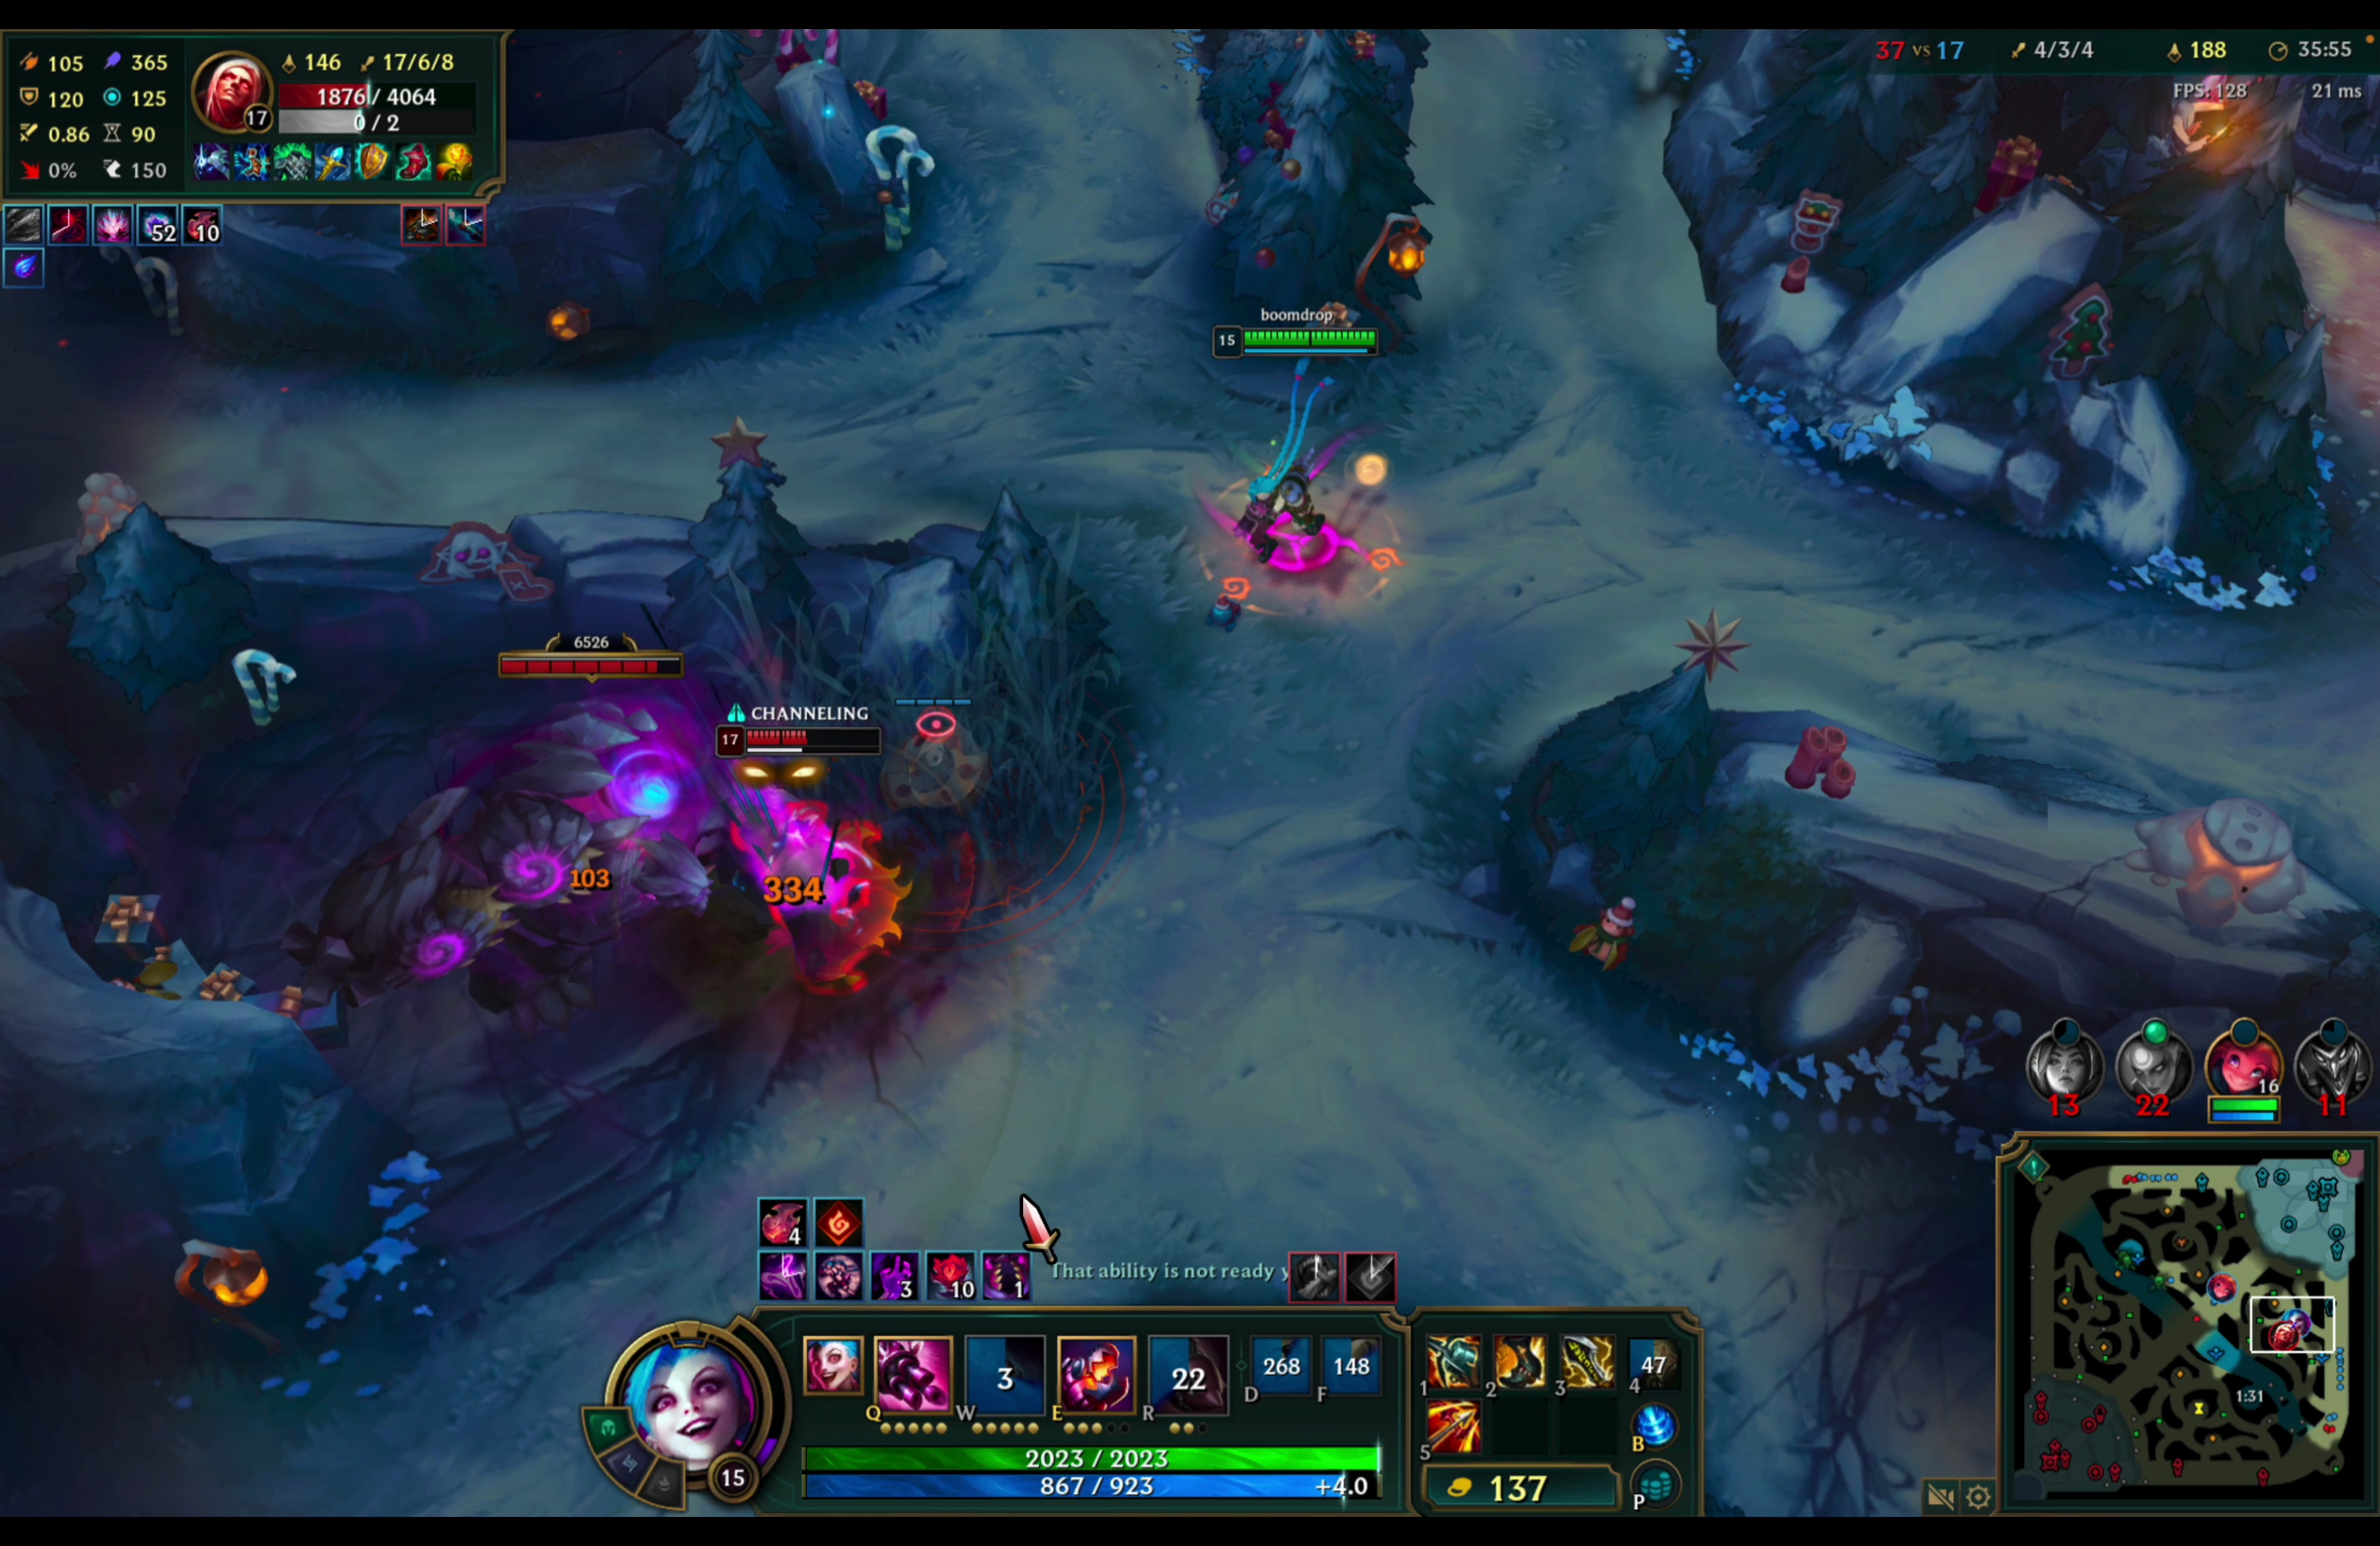JINX_W_IMPACT: (637, 685, 952, 1053)
